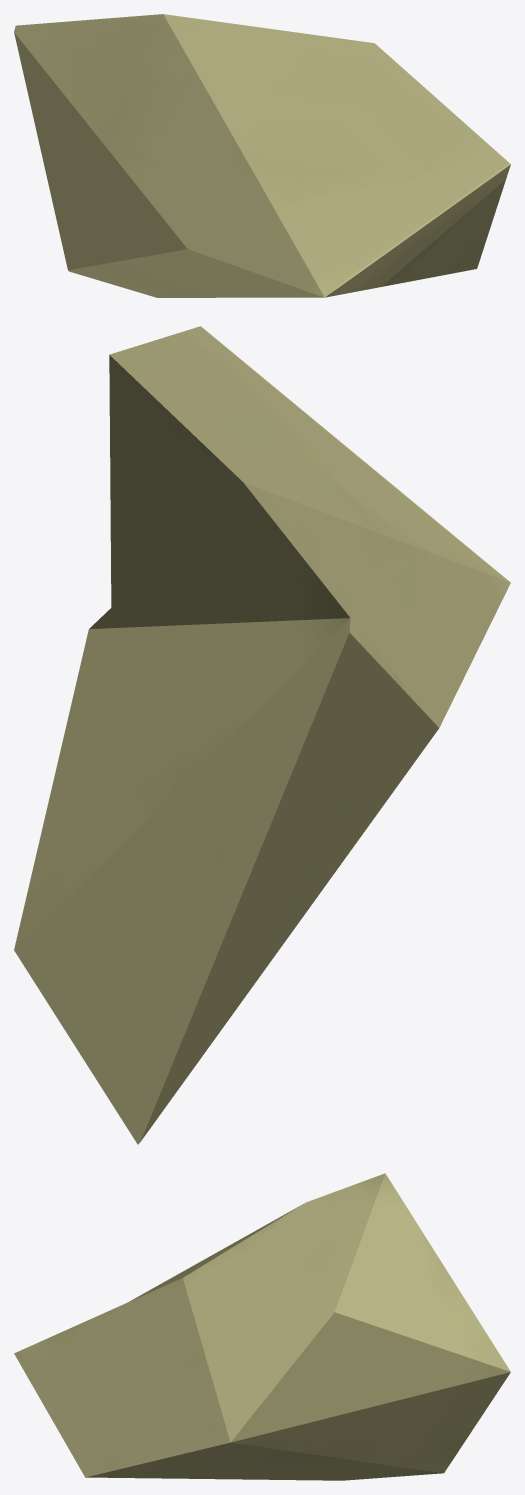
The model's file is rock_prop_01.gltf.
3 renders of one model, top to bottom at view 1: azimuth 30°, elevation 25°; view 2: azimuth 150°, elevation 25°; view 3: azimuth 270°, elevation 25°, orthographic. The views are drawn at different scales.
Parts seen in each view (by area): view 1: rock_prop; view 2: rock_prop; view 3: rock_prop.
Part boxes in pixels (left/top/right/bottom): rock_prop: left=14, top=14, right=510, bottom=297; rock_prop: left=14, top=326, right=510, bottom=1144; rock_prop: left=14, top=1173, right=510, bottom=1480.
Bounding box in the file's own units: 1.38 × 1.38 × 2.23.
1 material, 1 textured.
